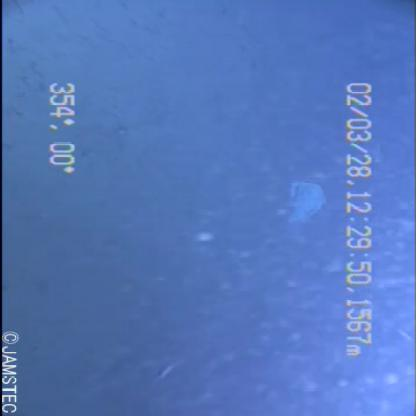Rác: (266, 166, 330, 256)
